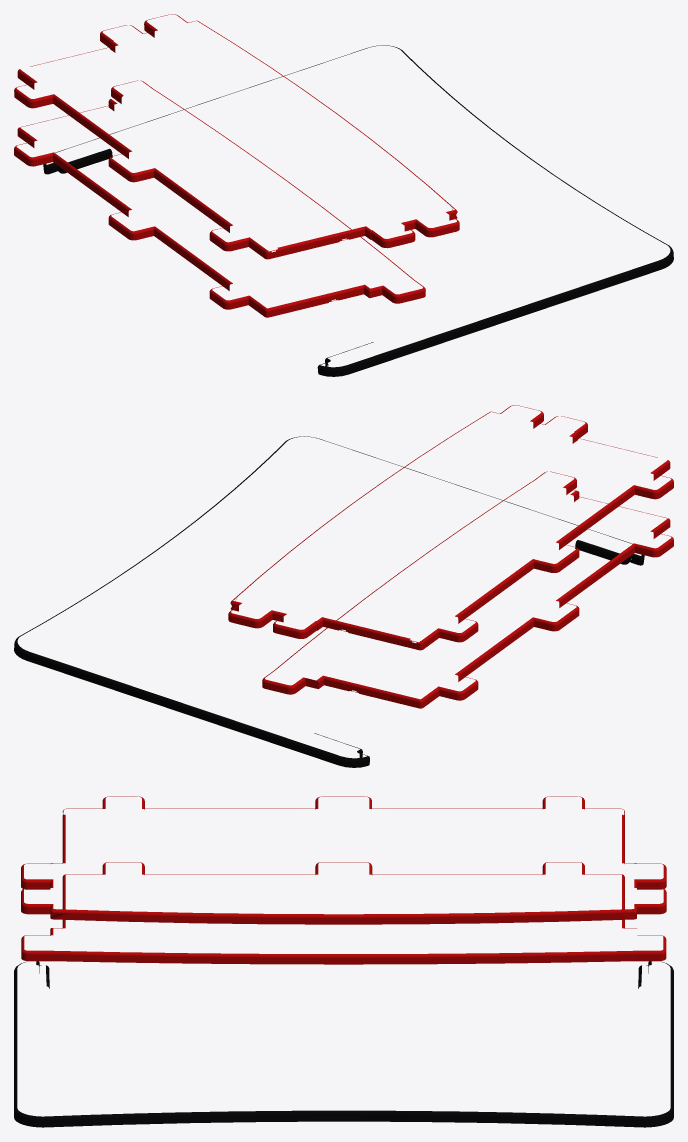
Rendered from shelveanddesktopTrim.glb.
3 renders of one model, top to bottom at view 1: azimuth 30°, elevation 25°; view 2: azimuth 150°, elevation 25°; view 3: azimuth 270°, elevation 25°, orthographic. The views are drawn at different scales.
Size of the model in its own units: 38.28 by 10.82 by 46.51.
